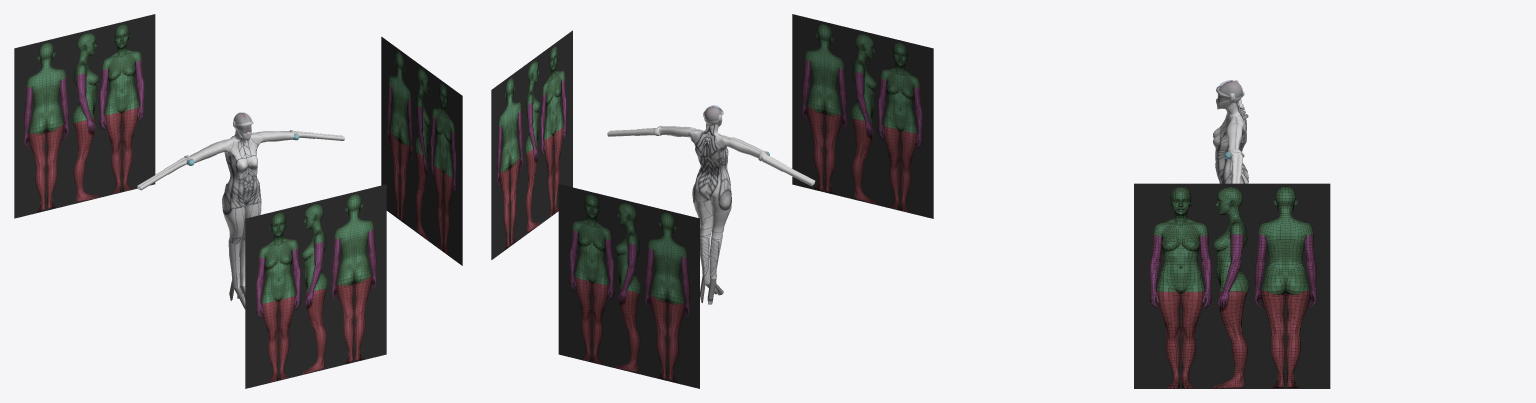
File: teki2.fbx
The picture shows the model from 3 angles, left to right: view 1: azimuth 30°, elevation 25°; view 2: azimuth 150°, elevation 25°; view 3: azimuth 270°, elevation 25°; orthographic projection. The views are drawn at different scales.
Visible parts, largest first — view 1: pPlane3, pPlane1, pPlane2, pSphere11_vtx_72_; view 2: pPlane1, pPlane3, pPlane2, pSphere11_vtx_72_; view 3: pPlane2, pSphere11_vtx_72_.
Boxes of the visible parts, <box> form: pPlane3: <box>245,184,386,388</box>; pPlane1: <box>14,14,155,218</box>; pPlane2: <box>381,36,462,265</box>; pSphere11_vtx_72_: <box>137,112,344,309</box>; pPlane1: <box>558,184,699,388</box>; pPlane3: <box>792,14,933,218</box>; pPlane2: <box>491,30,572,259</box>; pSphere11_vtx_72_: <box>607,105,815,304</box>; pPlane2: <box>1134,183,1330,388</box>; pSphere11_vtx_72_: <box>1213,80,1248,183</box>.
Size of the model in its own units: 1485 by 957 by 2069.
3 materials, 2 textured.
